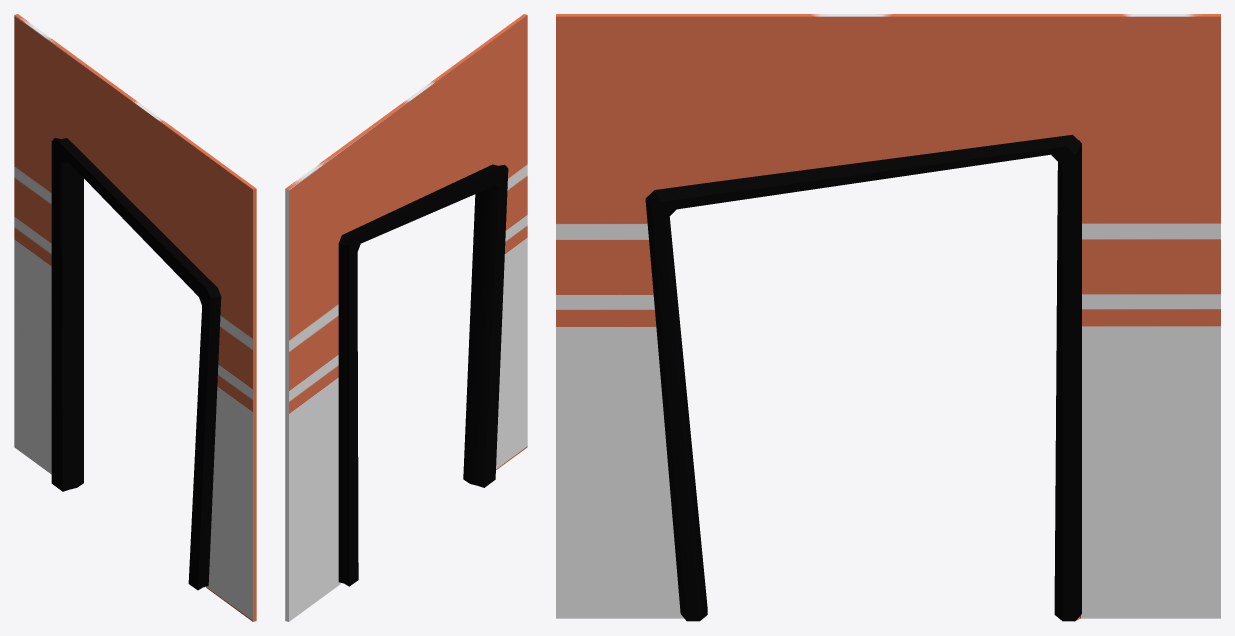
Rendered from Door_With_New_Size.fbx.
3 renders of one model, left to right at view 1: azimuth 30°, elevation 25°; view 2: azimuth 150°, elevation 25°; view 3: azimuth 270°, elevation 25°, orthographic. The views are drawn at different scales.
Parts seen in each view (by area): view 1: Cube.003; view 2: Cube.003; view 3: Cube.003.
Part boxes in pixels (x1=…): Cube.003: x1=14, y1=14, x2=256, y2=621; Cube.003: x1=285, y1=14, x2=527, y2=621; Cube.003: x1=556, y1=14, x2=1220, y2=621.
Bounding box in the file's own units: 17.66 × 300 × 300.
2 materials, 1 textured.
